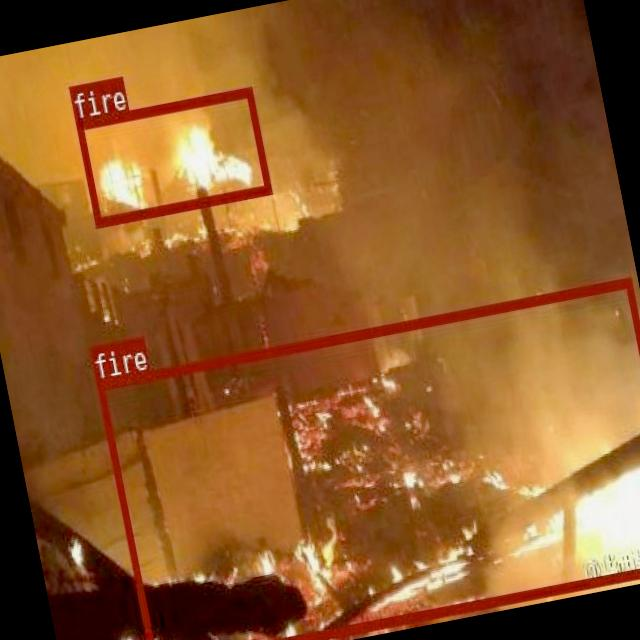fire: (95, 277, 640, 640), (75, 85, 272, 227)
